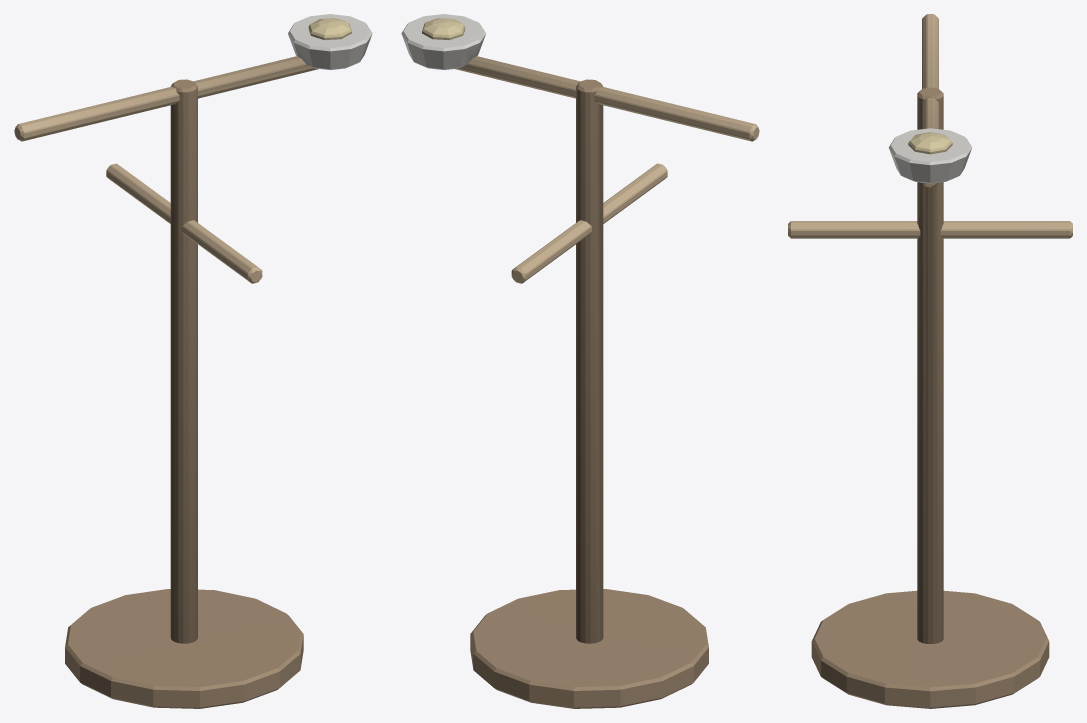
The model's file is petshop_bird_perch.glb.
3 renders of one model, left to right at view 1: azimuth 30°, elevation 25°; view 2: azimuth 150°, elevation 25°; view 3: azimuth 270°, elevation 25°, orthographic.
Size of the model in its own units: 0.8381 by 1.38 by 0.6.
